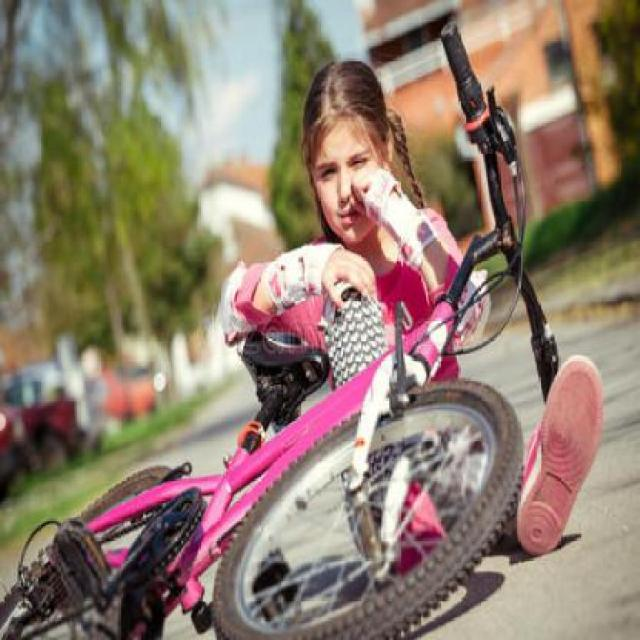fall: (178, 14, 594, 492)
